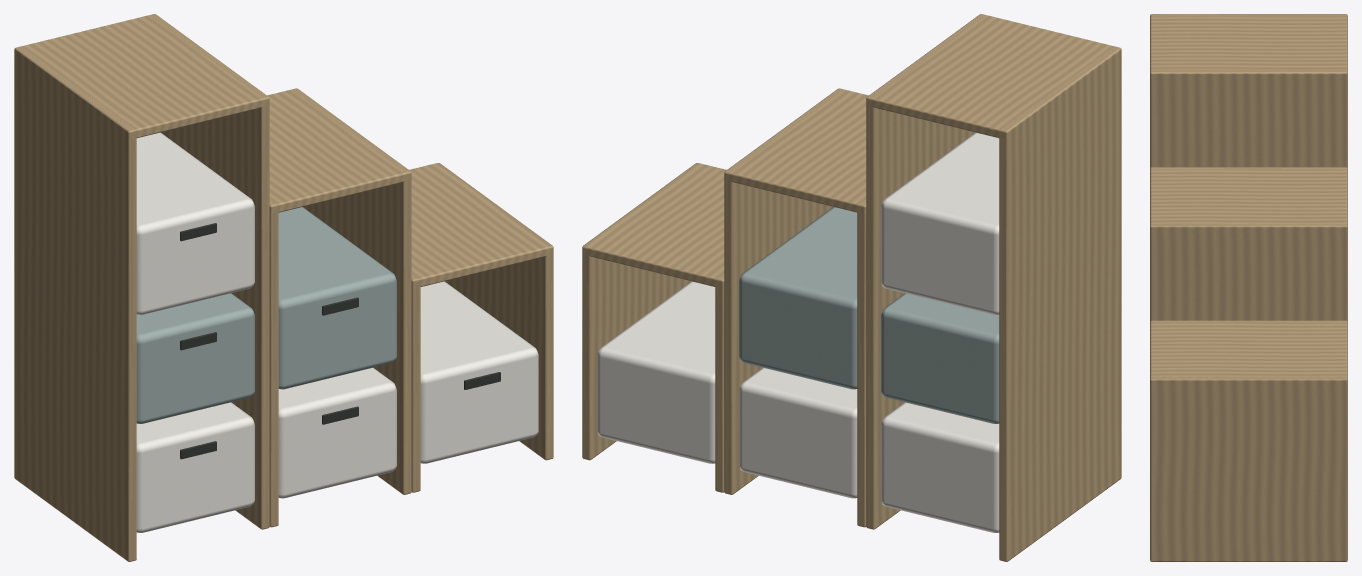
The model's file is trofast-mobile.glb.
3 views of the same model, side by side, from view 1: azimuth 30°, elevation 25°; view 2: azimuth 150°, elevation 25°; view 3: azimuth 270°, elevation 25° (orthographic). The views are drawn at different scales.
Visible parts, largest first — view 1: TROFAST Stepped storage with boxes; view 2: TROFAST Stepped storage with boxes; view 3: TROFAST Stepped storage with boxes.
Part boxes in pixels (x1,y1,x2,y2): TROFAST Stepped storage with boxes: (14, 14, 553, 561); TROFAST Stepped storage with boxes: (582, 14, 1121, 561); TROFAST Stepped storage with boxes: (1150, 14, 1347, 561).
Bounding box in the file's own units: 0.94 × 0.91 × 0.44.
Materials: 4 (4 with a texture image).
